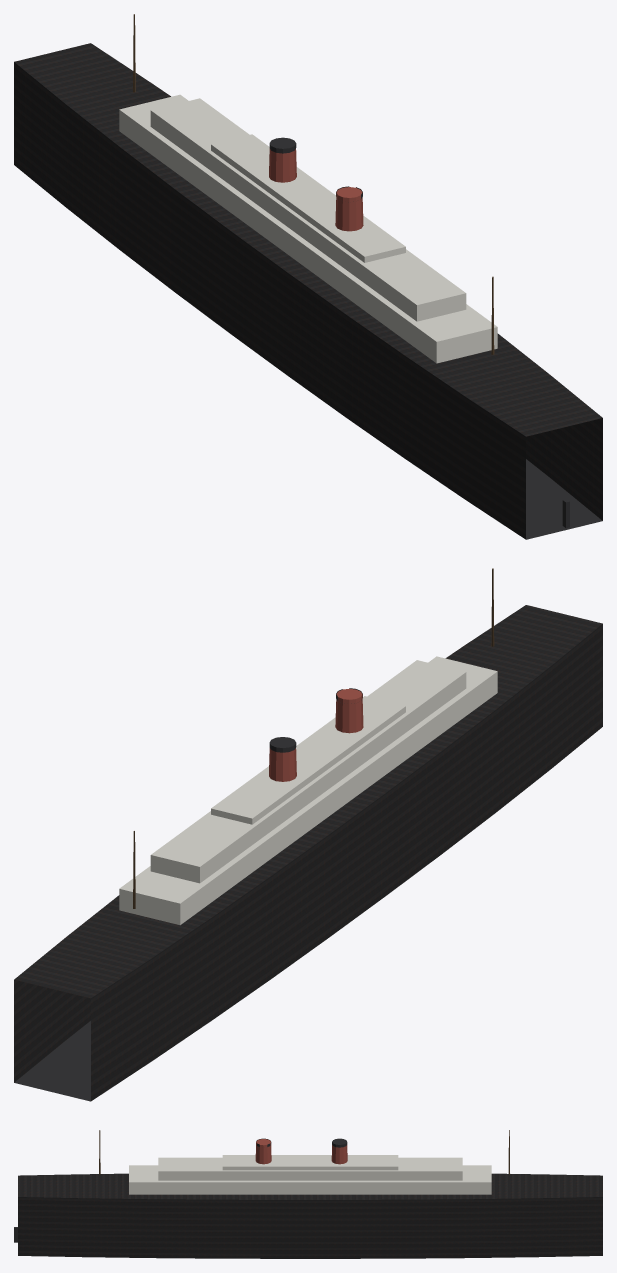
The model's file is _PROXY_liner.glb.
3 renders of one model, top to bottom at view 1: azimuth 30°, elevation 25°; view 2: azimuth 150°, elevation 25°; view 3: azimuth 270°, elevation 25°, orthographic. The views are drawn at different scales.
Parts seen in each view (by area): view 1: _PROXY_liner; view 2: _PROXY_liner; view 3: _PROXY_liner.
Part boxes in pixels (left/top/right/bottom): _PROXY_liner: left=14, top=14, right=602, bottom=539; _PROXY_liner: left=14, top=568, right=602, bottom=1101; _PROXY_liner: left=14, top=1130, right=602, bottom=1258.
Bounding box in the file's own units: 19.96 × 39 × 181.
Materials: 5 (2 with a texture image).
